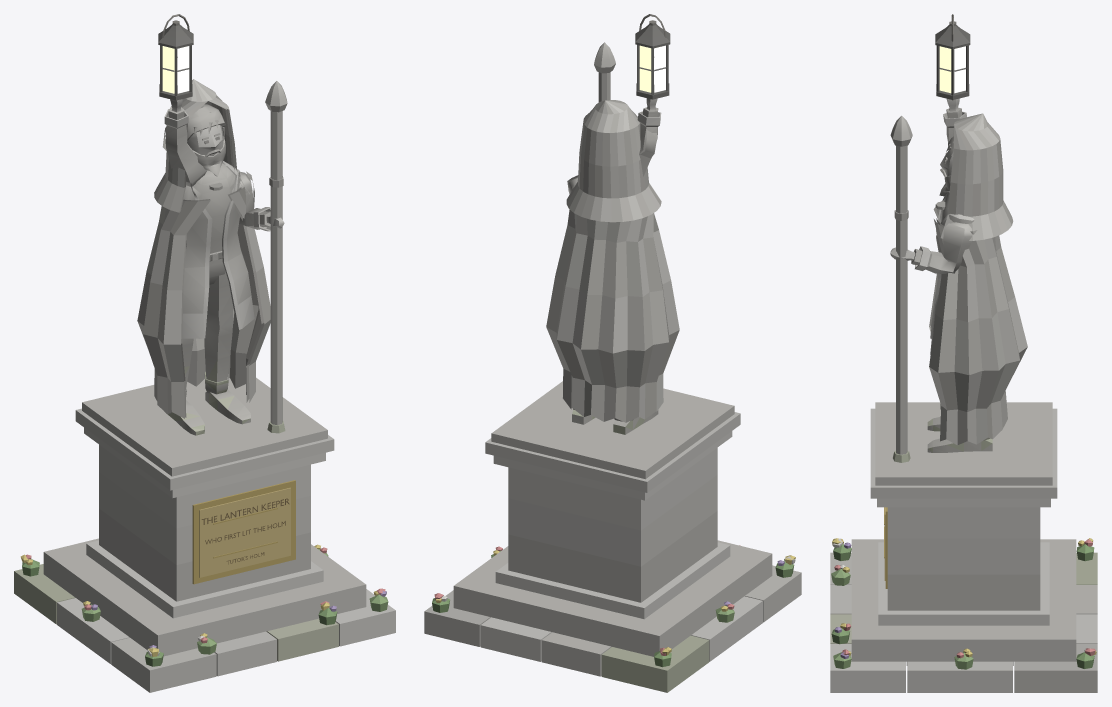
The model's file is holm_arrival_statue_v3.glb.
3 views of the same model, side by side, from view 1: azimuth 30°, elevation 25°; view 2: azimuth 150°, elevation 25°; view 3: azimuth 270°, elevation 25° (orthographic).
Visible parts, largest first — view 1: LanternKeeperPlinth, LanternKeeperFigure, LanternKeeperCloak, LanternKeeperStaff, LanternKeeperLantern, LanternKeeperLettering; view 2: LanternKeeperPlinth, LanternKeeperCloak, LanternKeeperLantern, LanternKeeperFigure, LanternKeeperStaff; view 3: LanternKeeperPlinth, LanternKeeperCloak, LanternKeeperFigure, LanternKeeperStaff, LanternKeeperLantern.
Boxes of the visible parts, x1,y1,x2,y2 form: LanternKeeperPlinth: (14,377,395,692); LanternKeeperFigure: (162,99,284,435); LanternKeeperCloak: (137,79,270,418); LanternKeeperStaff: (265,81,287,433); LanternKeeperLantern: (158,14,193,100); LanternKeeperLettering: (201,498,289,564); LanternKeeperPlinth: (424,381,801,692); LanternKeeperCloak: (546,100,679,422); LanternKeeperLantern: (635,14,670,99); LanternKeeperFigure: (567,98,661,434); LanternKeeperStaff: (594,42,615,101); LanternKeeperPlinth: (830,402,1097,692); LanternKeeperCloak: (929,113,1027,445); LanternKeeperFigure: (890,98,992,452); LanternKeeperStaff: (890,115,912,462); LanternKeeperLantern: (935,14,970,100).
Bounding box in the file's own units: 1.83 × 4.34 × 1.75.
